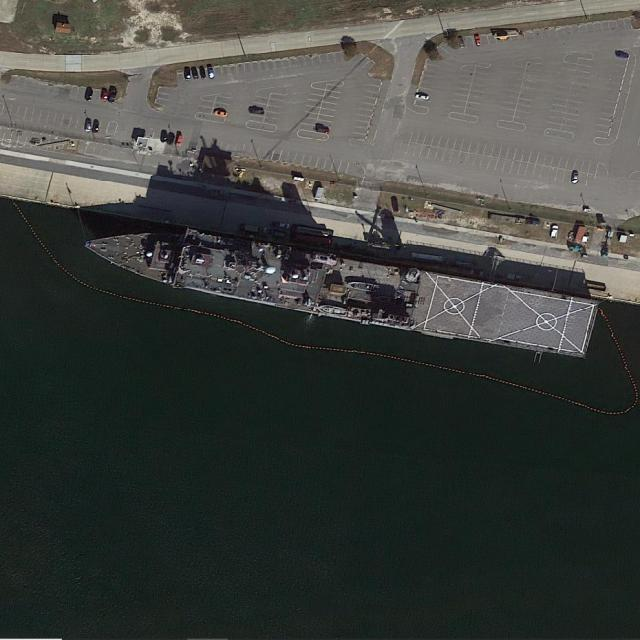Landing: (77, 209, 603, 362)
